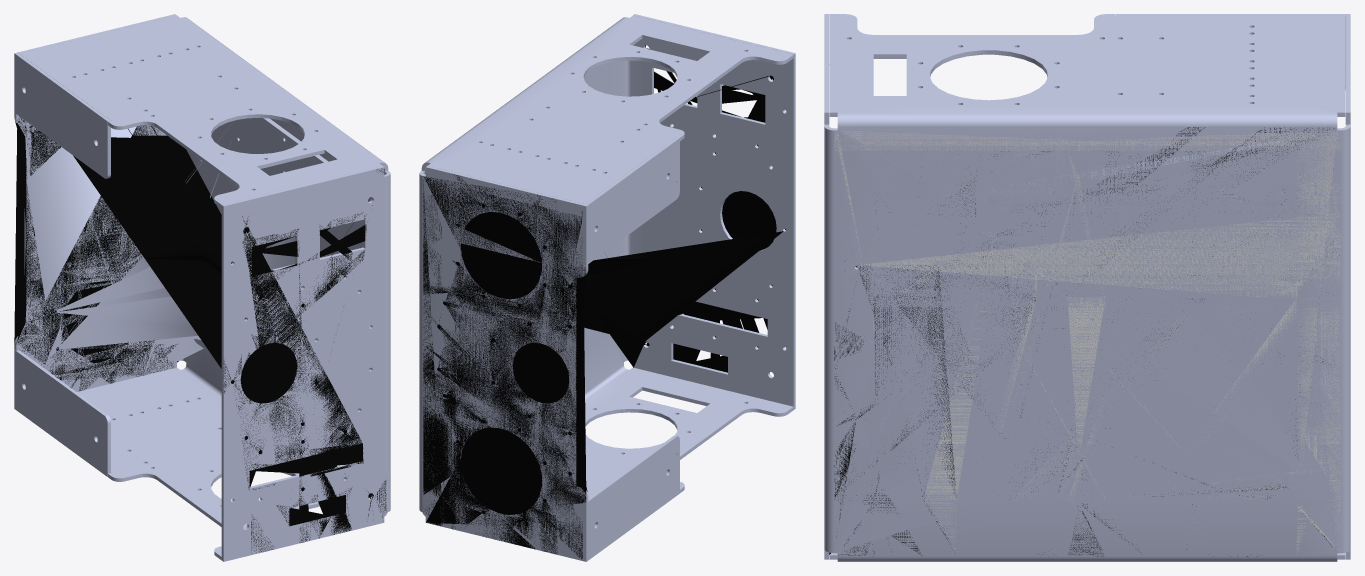
The picture shows the model from 3 angles, left to right: view 1: azimuth 30°, elevation 25°; view 2: azimuth 150°, elevation 25°; view 3: azimuth 270°, elevation 25°; orthographic projection. The views are drawn at different scales.
Parts seen in each view (by area): view 1: node0, node5, node4; view 2: node0, node5, node4; view 3: node0, node2, node4, node1, node5.
Boxes of the visible parts, bbox=[...] form: node0: bbox=[14, 14, 390, 561]; node5: bbox=[14, 116, 386, 552]; node4: bbox=[16, 114, 302, 386]; node0: bbox=[419, 14, 795, 561]; node5: bbox=[423, 45, 786, 559]; node4: bbox=[422, 168, 541, 262]; node0: bbox=[824, 14, 1350, 561]; node2: bbox=[834, 127, 1340, 556]; node4: bbox=[834, 127, 1340, 556]; node1: bbox=[834, 130, 1340, 553]; node5: bbox=[829, 127, 1339, 556].
Size of the model in its own units: 0.1501 by 0.3 by 0.32.
